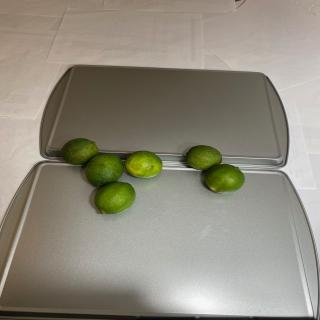Lemon: (94, 182, 136, 214), (85, 153, 124, 187), (204, 164, 245, 194), (124, 150, 162, 178), (61, 138, 98, 165), (186, 145, 222, 170)
